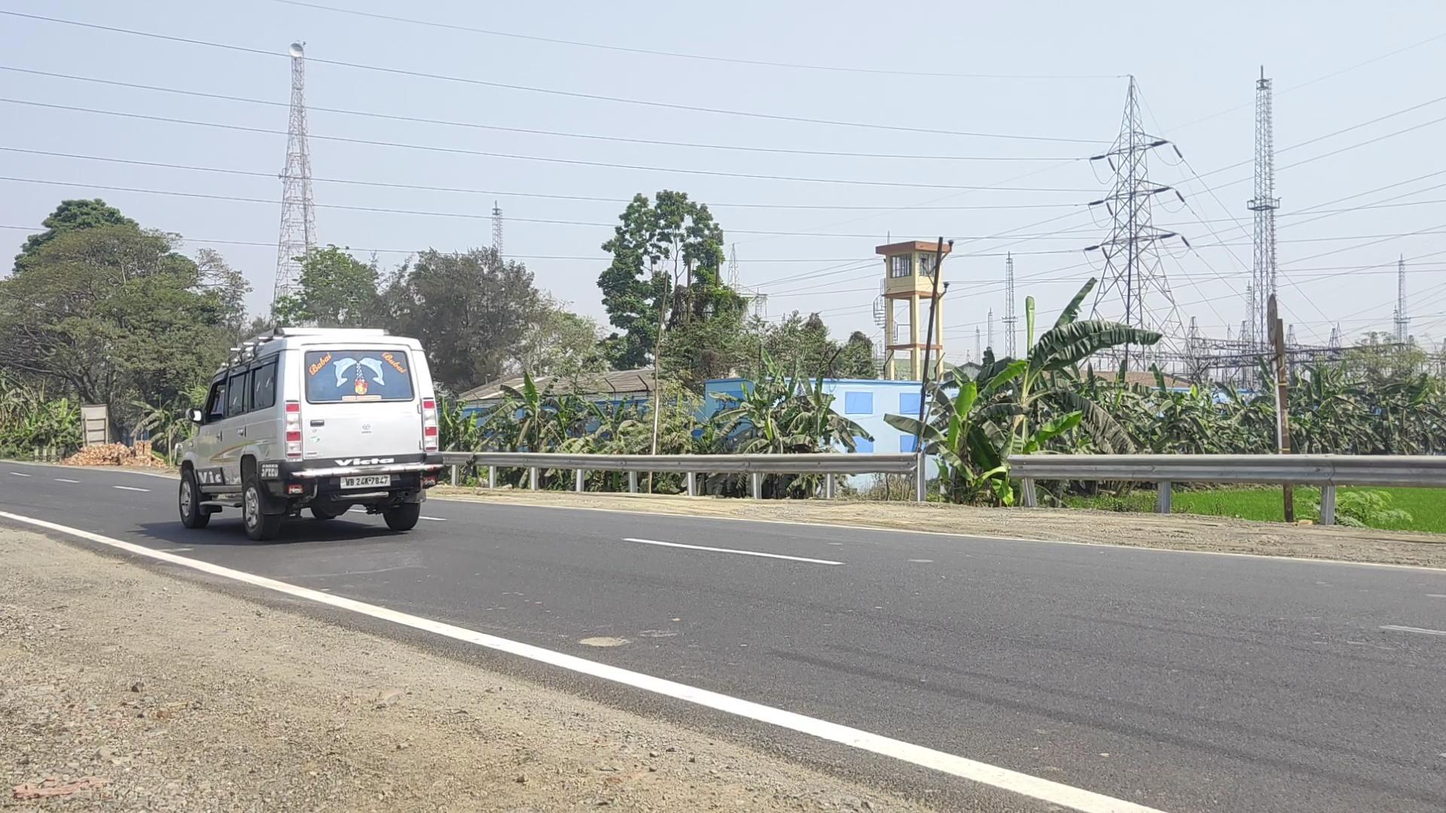car: (173, 327, 444, 542)
